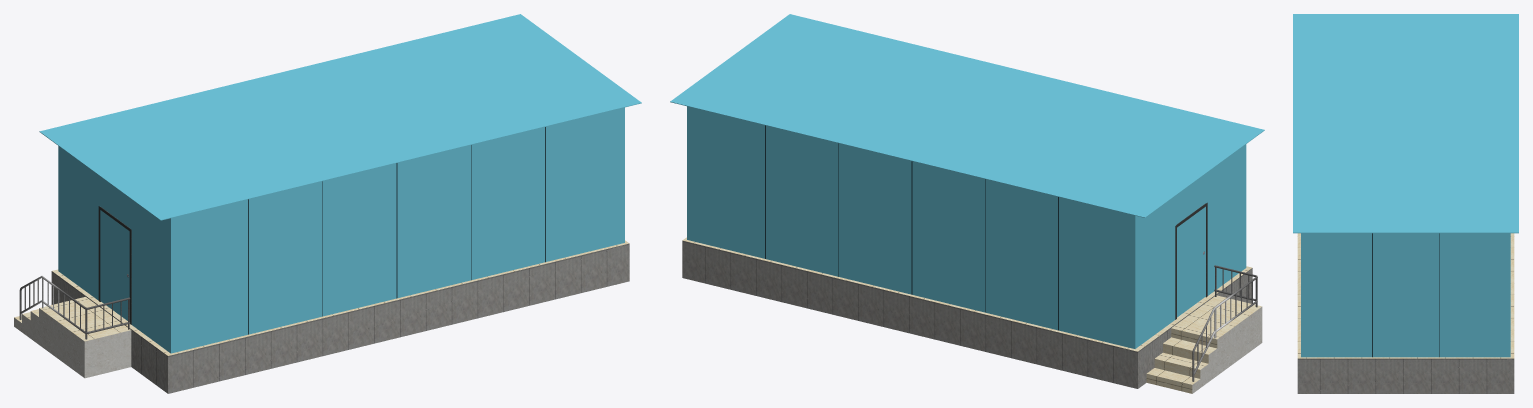
The model's file is GlassWall House.FBX.
3 views of the same model, side by side, from view 1: azimuth 30°, elevation 25°; view 2: azimuth 150°, elevation 25°; view 3: azimuth 270°, elevation 25° (orthographic). The views are drawn at different scales.
Parts seen in each view (by area): view 1: GlassWall House; view 2: GlassWall House; view 3: GlassWall House.
Boxes of the visible parts, left/top/right/bottom form: GlassWall House: left=14, top=14, right=641, bottom=393; GlassWall House: left=670, top=14, right=1264, bottom=393; GlassWall House: left=1293, top=14, right=1518, bottom=393.
Bounding box in the file's own units: 1002 × 329 × 407.
